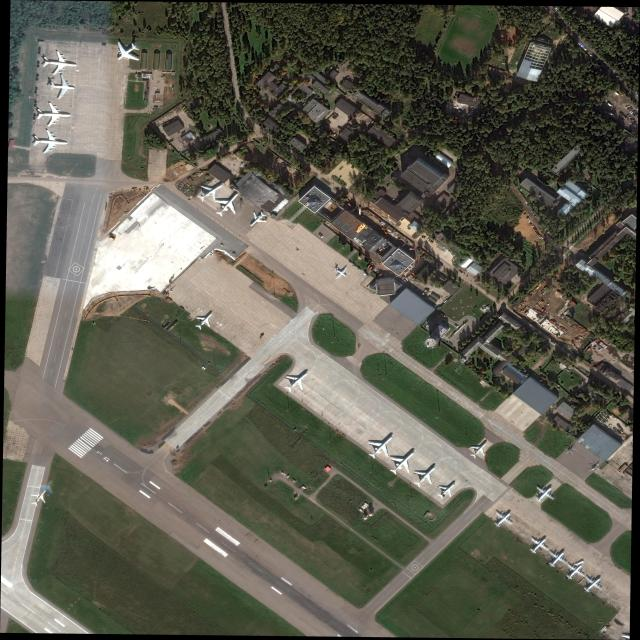plane: (381, 440, 427, 482), (105, 35, 152, 74), (403, 456, 447, 496), (274, 361, 320, 399), (360, 427, 406, 464), (424, 472, 468, 510), (207, 184, 249, 223), (191, 176, 231, 209), (37, 49, 81, 79), (33, 101, 74, 128), (30, 129, 71, 155), (188, 305, 222, 336), (539, 543, 574, 572), (46, 72, 80, 101), (558, 557, 592, 586), (528, 479, 561, 508), (577, 569, 611, 597), (487, 505, 520, 532), (464, 436, 495, 464), (523, 531, 555, 558), (327, 260, 357, 286), (244, 207, 272, 233)
